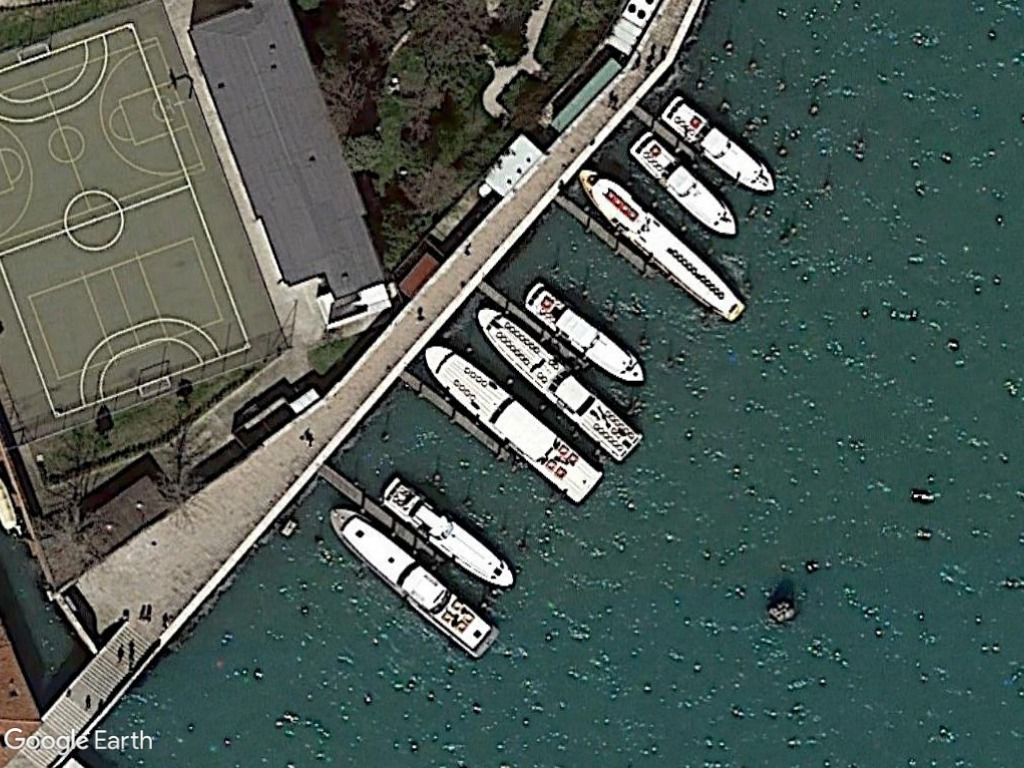boat: (420, 342, 607, 507), (573, 168, 751, 331), (472, 305, 648, 467), (325, 504, 501, 660), (374, 475, 519, 593), (517, 278, 651, 387), (656, 92, 786, 199), (624, 127, 744, 239)
